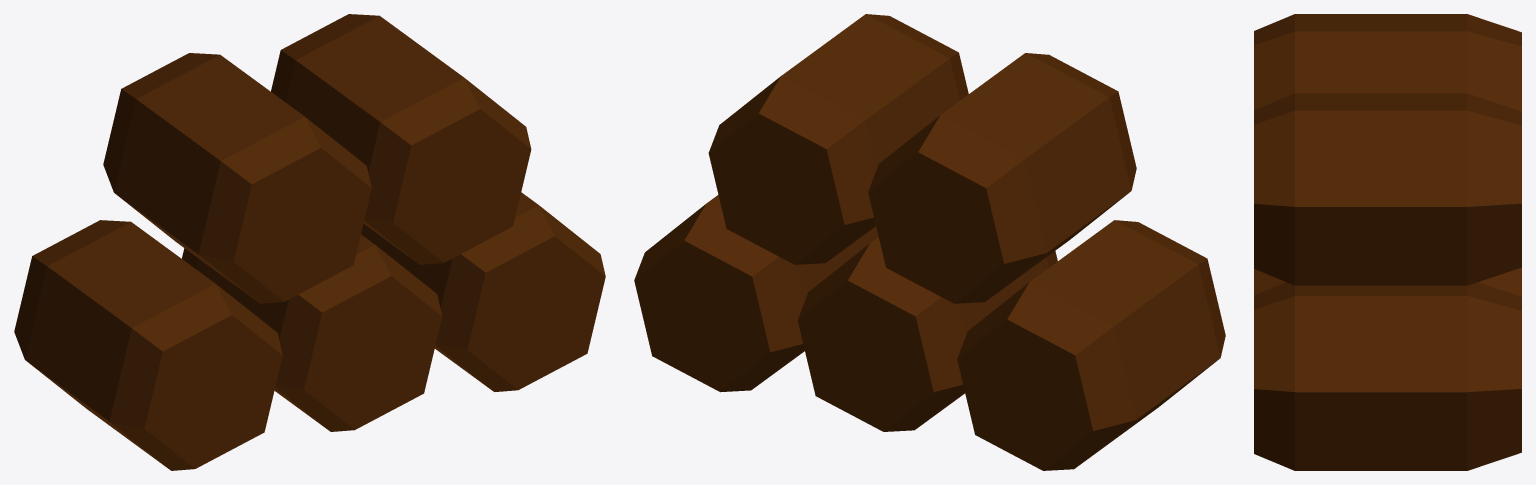
Rendered from barrelTower.fbx.
3 views of the same model, side by side, from view 1: azimuth 30°, elevation 25°; view 2: azimuth 150°, elevation 25°; view 3: azimuth 270°, elevation 25° (orthographic).
Parts seen in each view (by area): view 1: Plane.1296; view 2: Plane.1296; view 3: Plane.1296.
Part boxes in pixels (x1=…): Plane.1296: x1=14, y1=14, x2=605, y2=470; Plane.1296: x1=634, y1=14, x2=1225, y2=470; Plane.1296: x1=1254, y1=14, x2=1521, y2=470.
Size of the model in its own units: 41.12 by 25.75 by 19.06.
